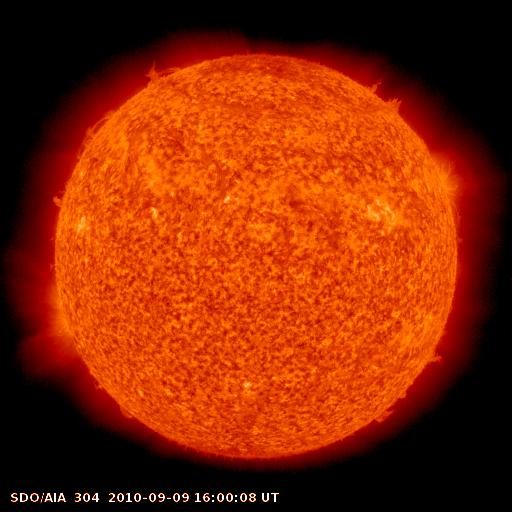prominence: (74, 103, 124, 158), (365, 385, 415, 429), (364, 71, 408, 117), (138, 57, 188, 89), (413, 342, 455, 373), (45, 184, 71, 214)
